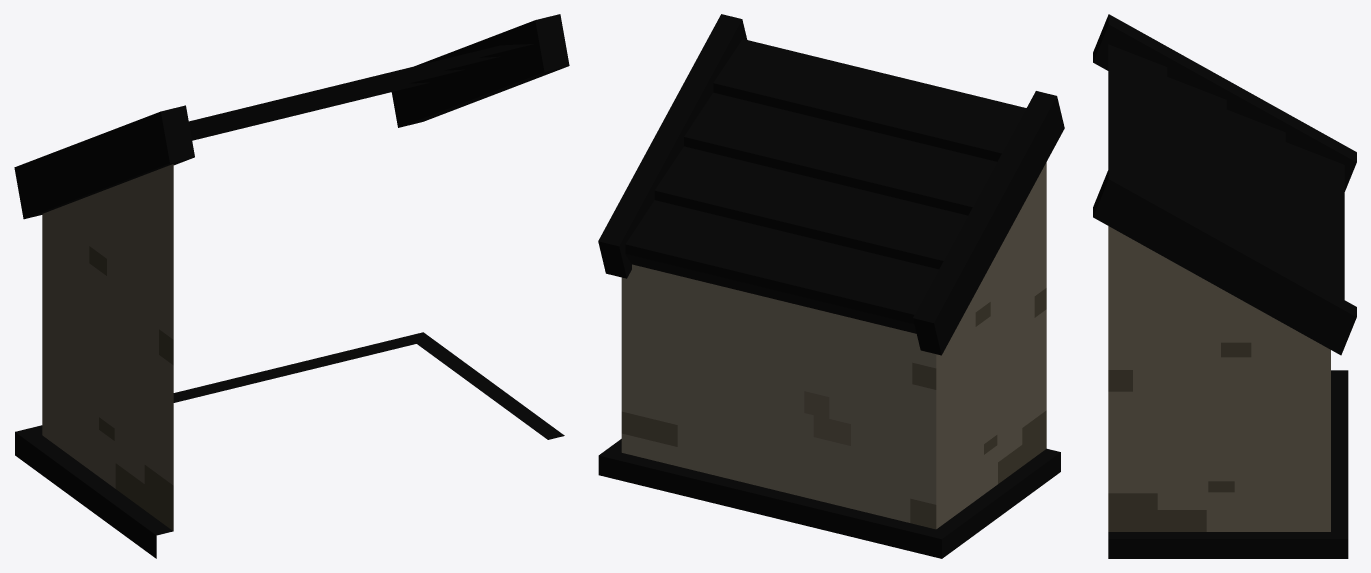
The model's file is HouseAdd_StoneRoom.gltf.
The picture shows the model from 3 angles, left to right: view 1: azimuth 30°, elevation 25°; view 2: azimuth 150°, elevation 25°; view 3: azimuth 270°, elevation 25°; orthographic projection. The views are drawn at different scales.
Parts seen in each view (by area): view 1: SF_Bld_HouseAdd_StoneRoom_01; view 2: SF_Bld_HouseAdd_StoneRoom_01; view 3: SF_Bld_HouseAdd_StoneRoom_01.
Boxes of the visible parts, x1=… form: SF_Bld_HouseAdd_StoneRoom_01: x1=14, y1=14, x2=569, y2=558; SF_Bld_HouseAdd_StoneRoom_01: x1=598, y1=14, x2=1064, y2=558; SF_Bld_HouseAdd_StoneRoom_01: x1=1093, y1=14, x2=1356, y2=558.
Size of the model in its own units: 0.0527 by 0.055 by 0.0348.
1 material, 1 textured.
